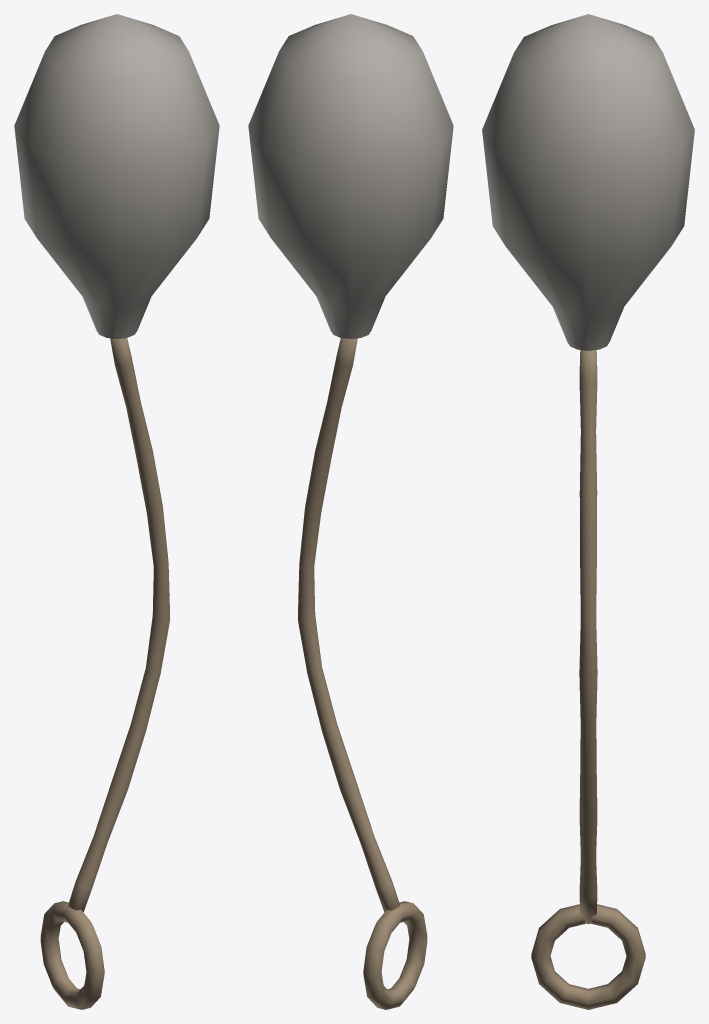
The model's file is stingchuck.glb.
3 views of the same model, side by side, from view 1: azimuth 30°, elevation 25°; view 2: azimuth 150°, elevation 25°; view 3: azimuth 270°, elevation 25° (orthographic). The views are drawn at different scales.
Visible parts, largest first — view 1: stingchuck; view 2: stingchuck; view 3: stingchuck.
Boxes of the visible parts, x1,y1,x2,y2 form: stingchuck: (14,14,219,1009); stingchuck: (248,14,453,1009); stingchuck: (482,14,694,1009).
Size of the model in its own units: 0.2 by 1.05 by 0.2.
